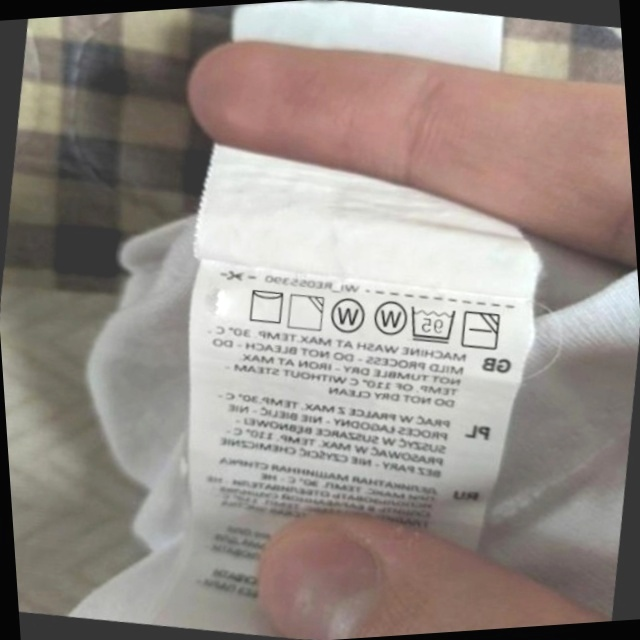95C: (404, 299, 461, 349)
dry_flat_in_shade: (457, 304, 506, 355)
line_dry: (242, 282, 290, 329)
shade_dry: (282, 288, 329, 336)
wet_clean: (325, 292, 370, 340), (367, 293, 411, 341)
